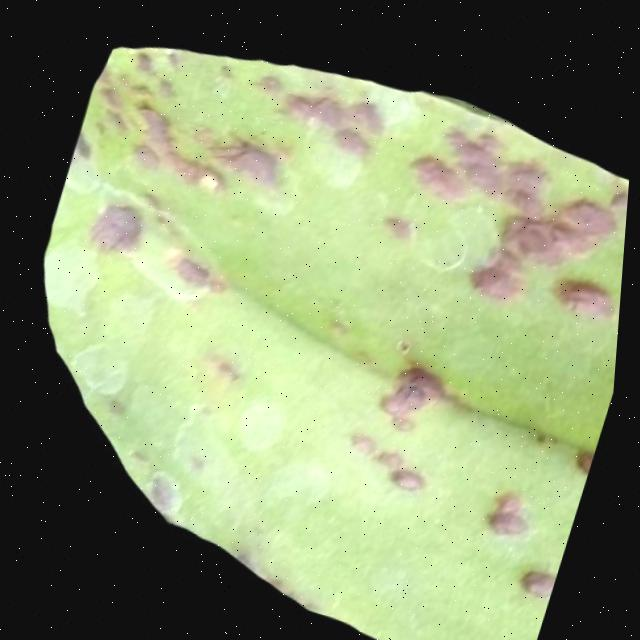mite: (234, 387, 301, 455), (143, 462, 198, 516), (171, 247, 221, 287), (523, 555, 566, 593), (392, 455, 435, 489), (576, 436, 602, 467), (395, 328, 421, 352)
spots: (0, 5, 633, 640)
